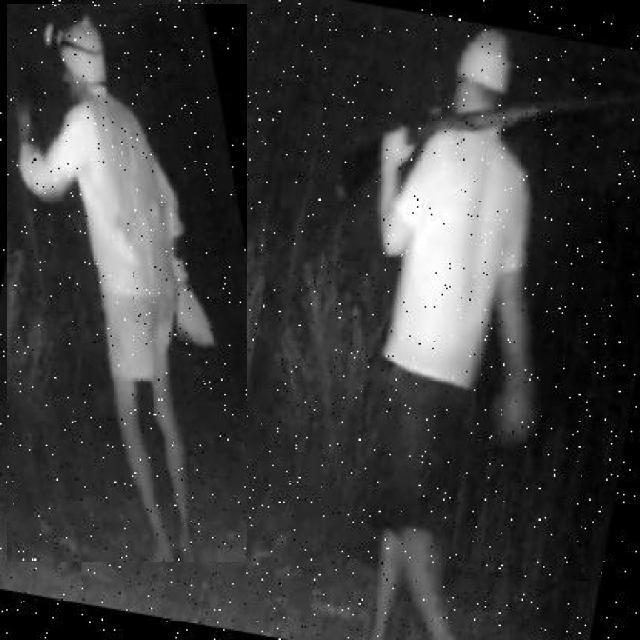poacher: (326, 23, 580, 620), (8, 4, 248, 562)
